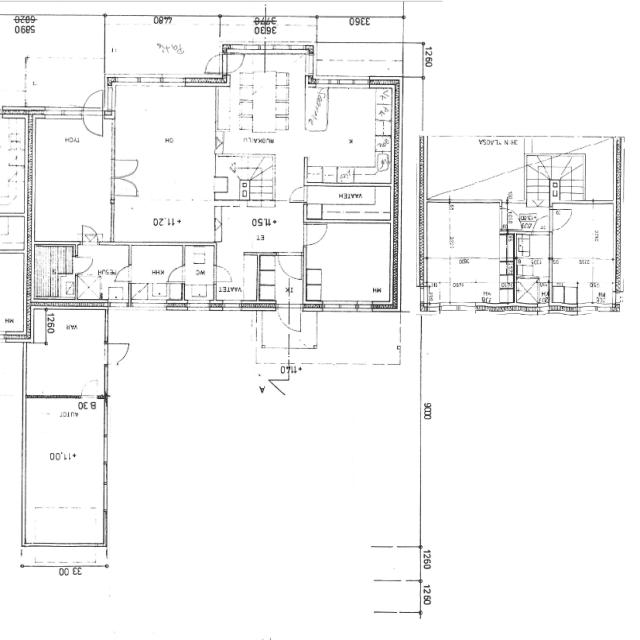door: (112, 154, 143, 197), (80, 88, 105, 138), (504, 206, 545, 231), (276, 251, 305, 282), (276, 301, 302, 334), (302, 220, 330, 247), (103, 340, 132, 366), (550, 204, 574, 231), (202, 51, 224, 76), (78, 376, 101, 398), (78, 222, 100, 244), (212, 263, 235, 284), (225, 51, 246, 73), (73, 254, 96, 274), (289, 50, 307, 74), (166, 264, 187, 284), (287, 184, 307, 204), (114, 264, 133, 282), (532, 215, 550, 233), (505, 208, 521, 227), (289, 44, 306, 61)
window: (42, 105, 82, 120), (437, 301, 478, 315), (322, 300, 363, 313), (330, 75, 370, 88), (130, 298, 170, 311), (160, 74, 187, 88), (186, 299, 212, 312), (101, 363, 111, 394), (576, 302, 598, 316), (221, 300, 243, 312), (107, 300, 129, 310), (0, 328, 8, 344), (0, 106, 5, 120)
zone: (112, 84, 220, 201), (33, 117, 114, 244), (217, 50, 307, 153), (306, 86, 392, 183), (304, 221, 394, 307), (28, 306, 108, 397), (428, 200, 508, 271), (215, 202, 306, 254), (112, 200, 218, 243), (551, 202, 617, 268), (547, 256, 618, 310), (306, 184, 394, 222), (75, 243, 131, 301), (129, 244, 186, 288), (0, 250, 28, 338), (0, 116, 25, 209), (34, 244, 76, 299), (183, 243, 216, 303), (214, 156, 248, 202), (514, 233, 550, 276), (504, 204, 550, 232), (1, 214, 27, 251)
